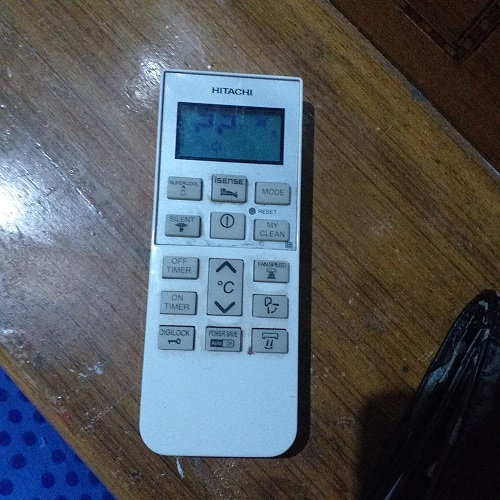remote: (124, 41, 316, 477)
